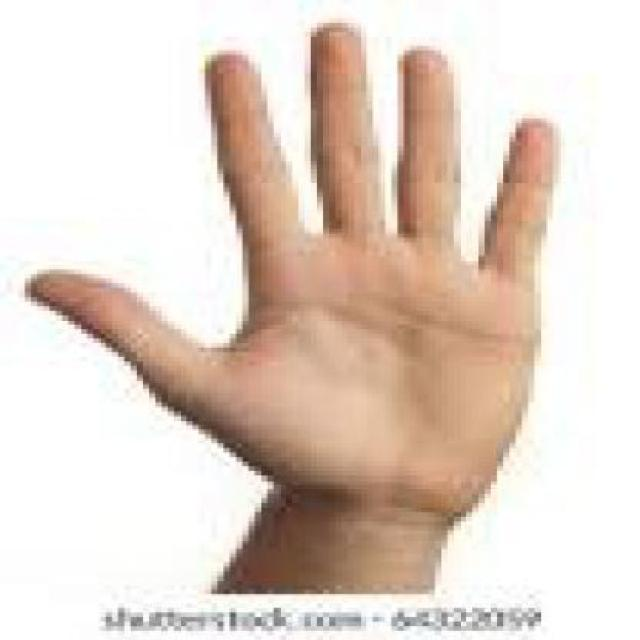no-gloves: (0, 12, 623, 578)
